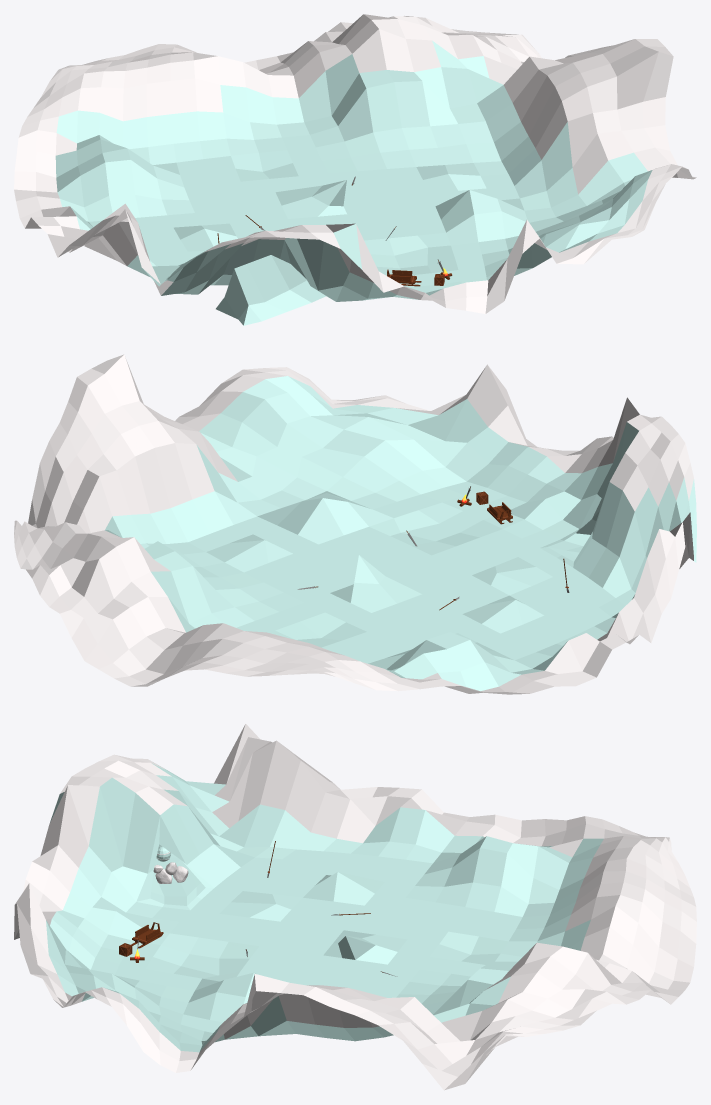
Rendered from Area2.fbx.
3 views of the same model, one above another, from view 1: azimuth 30°, elevation 25°; view 2: azimuth 150°, elevation 25°; view 3: azimuth 270°, elevation 25° (orthographic). The views are drawn at different scales.
Visible parts, largest first — view 1: Circle; view 2: Circle; view 3: Circle.
Part boxes in pixels (x1=…): Circle: x1=14, y1=14, x2=696, y2=325; Circle: x1=14, y1=354, x2=696, y2=694; Circle: x1=14, y1=724, x2=696, y2=1090.
Bounding box in the file's own units: 4777 × 989 × 4706.
